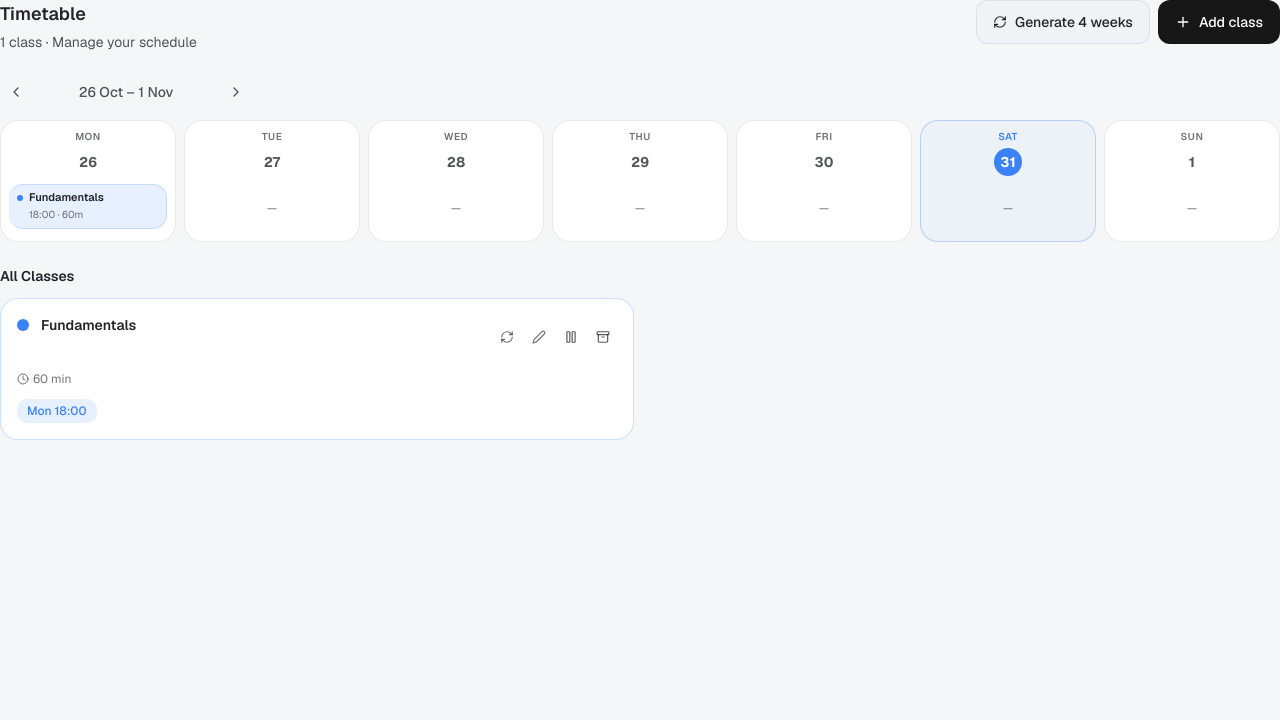
Test: TimetableManager — archiving a class still confirms › does not archive until the question is answered
Click the button named "Archive Fundamentals": click(603, 336) [589,320,617,352]
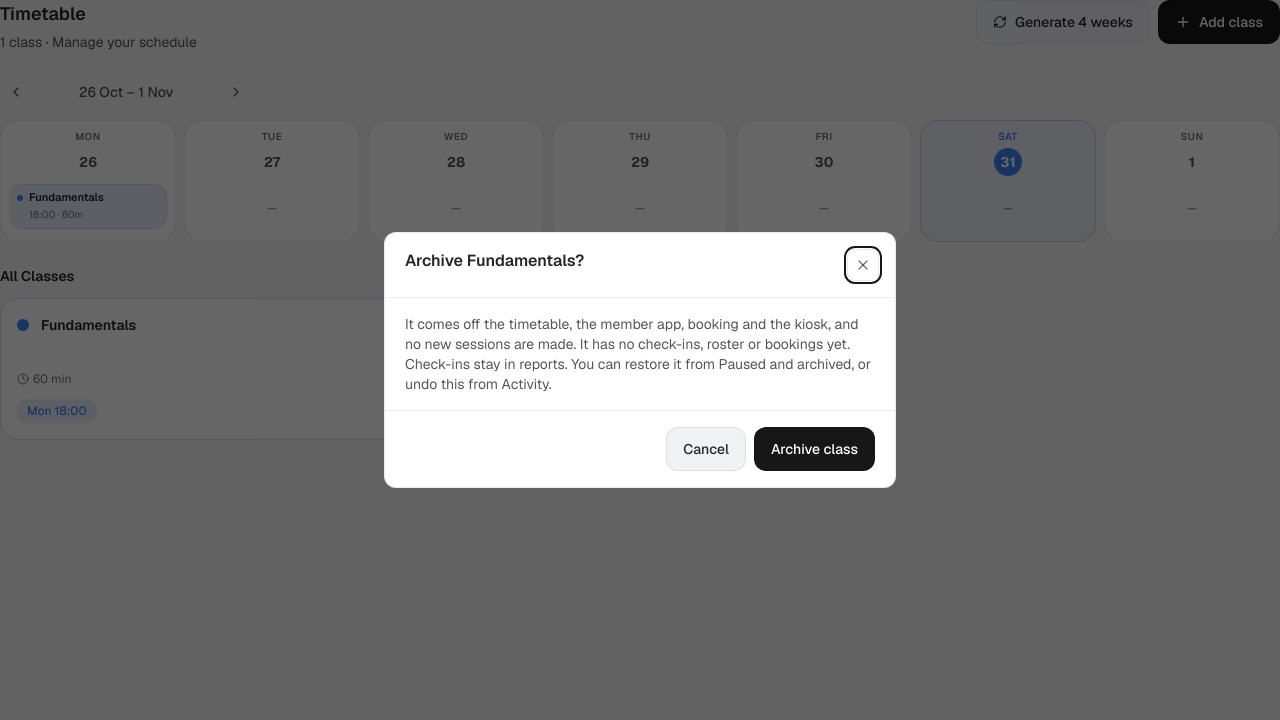
Expected: the dialog is shown, [384,232,896,488]
Expected: the text "comes off the timetable" is shown, [405,315,871,393]
